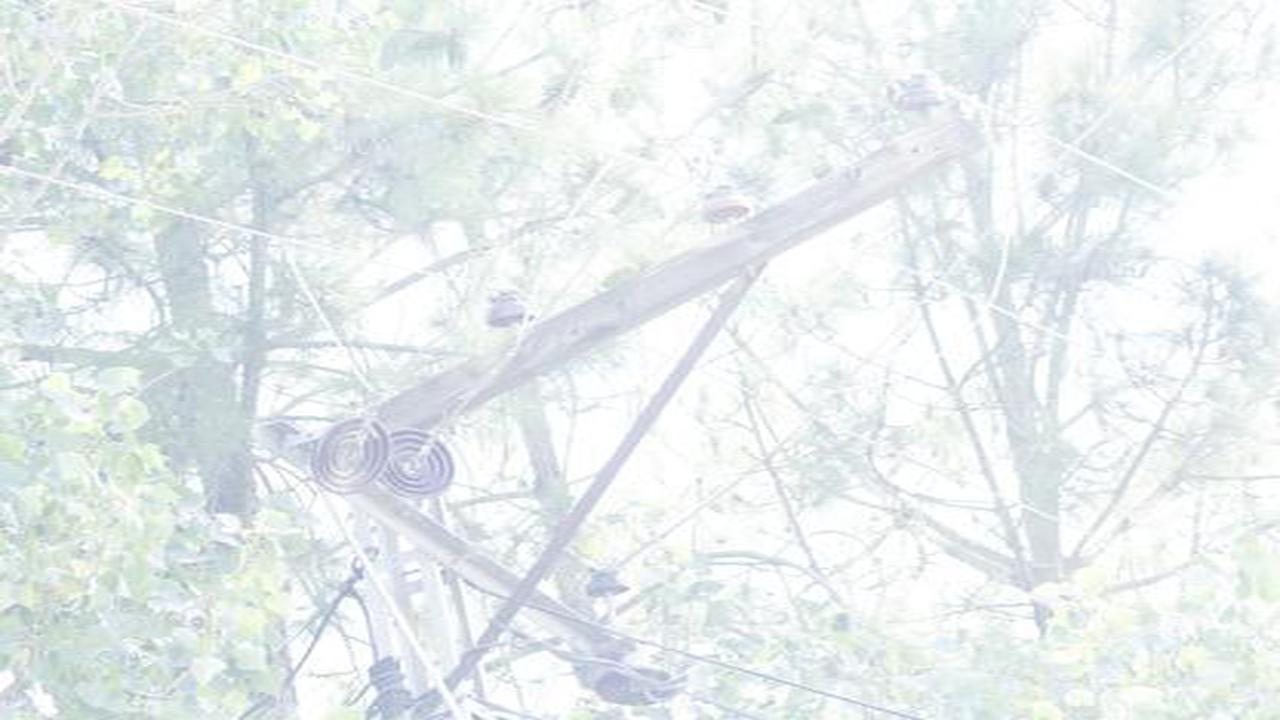insulator_disc: (307, 413, 390, 499), (393, 432, 457, 504)
insulator_pin: (696, 179, 749, 227), (895, 68, 948, 116), (582, 559, 631, 603), (485, 286, 532, 330)
